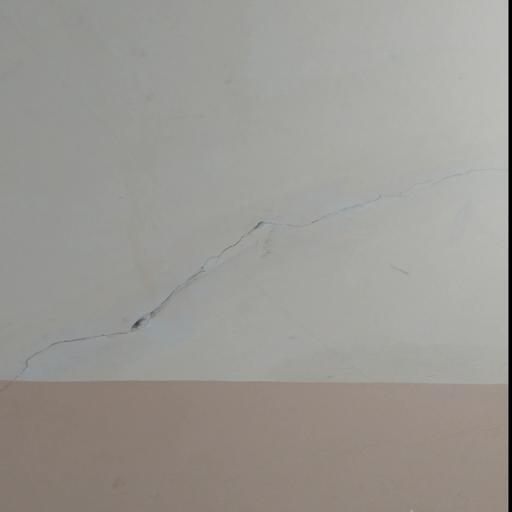minor_crack: (4, 159, 505, 394)
